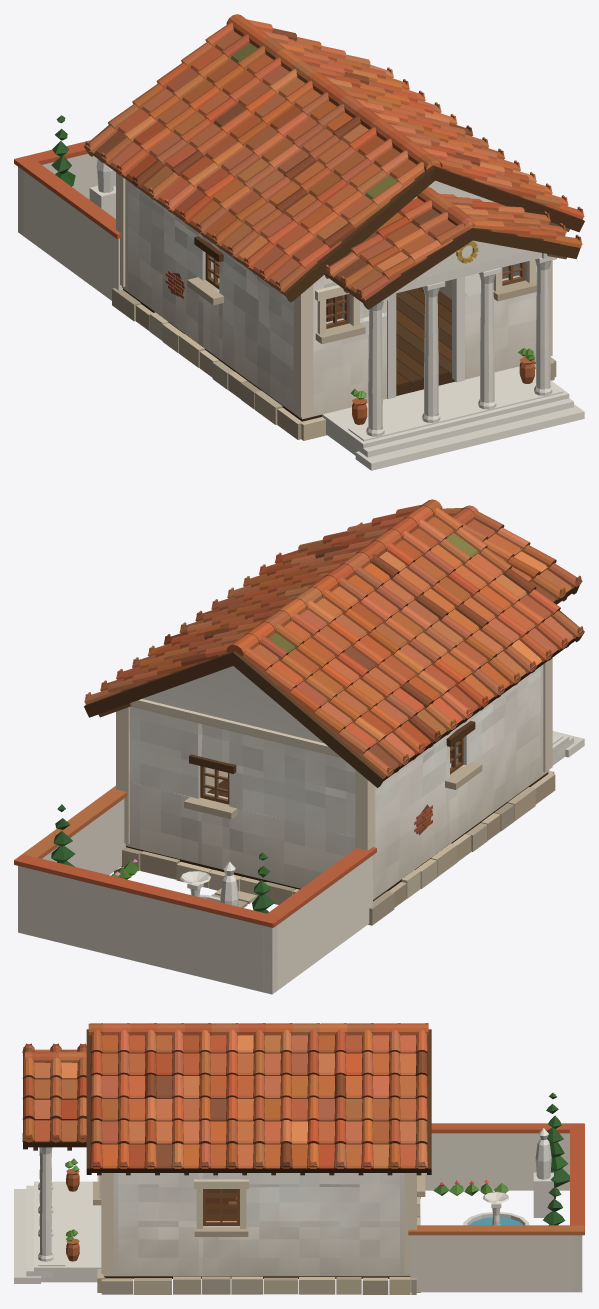
The model's file is patrician_2_1.glb.
3 renders of one model, top to bottom at view 1: azimuth 30°, elevation 25°; view 2: azimuth 150°, elevation 25°; view 3: azimuth 270°, elevation 25°, orthographic. The views are drawn at different scales.
Parts seen in each view (by area): view 1: House, Walls, Rooms; view 2: House, Walls; view 3: House, Walls, Rooms.
Boxes of the visible parts, x1,y1,x2,y2 form: House: [14, 14, 584, 470]; Walls: [122, 179, 536, 419]; Rooms: [218, 262, 518, 386]; House: [14, 499, 584, 994]; Walls: [125, 664, 549, 899]; House: [14, 1023, 584, 1294]; Walls: [103, 1173, 410, 1276]; Rooms: [206, 1189, 236, 1220].
Bounding box in the file's own units: 4.44 × 3.53 × 8.43.
Materials: 3 (3 with a texture image).
